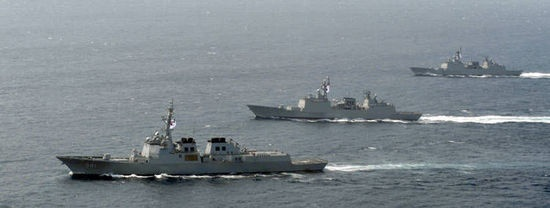warship: (50, 104, 328, 179), (246, 76, 418, 120), (412, 43, 524, 80)
